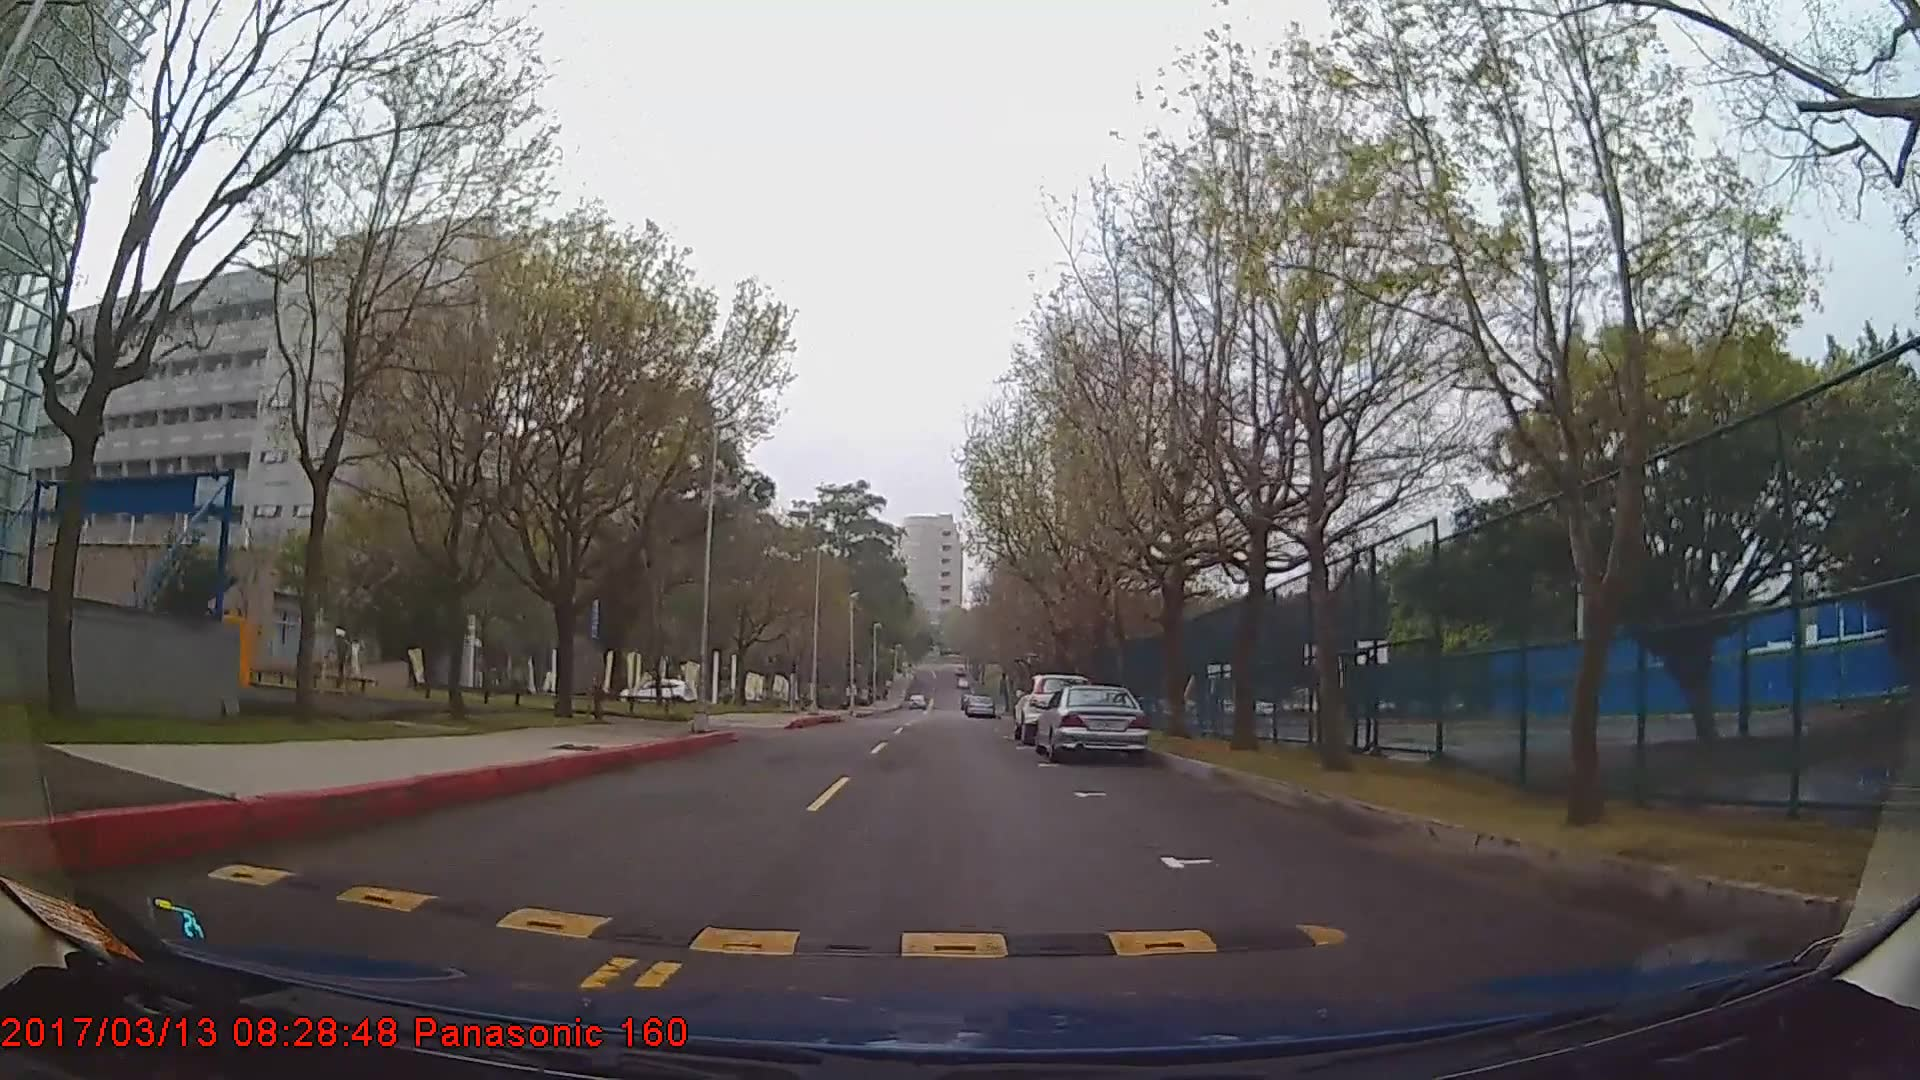vehicle: (1036, 684, 1151, 761), (1014, 674, 1095, 746), (964, 694, 994, 715)
